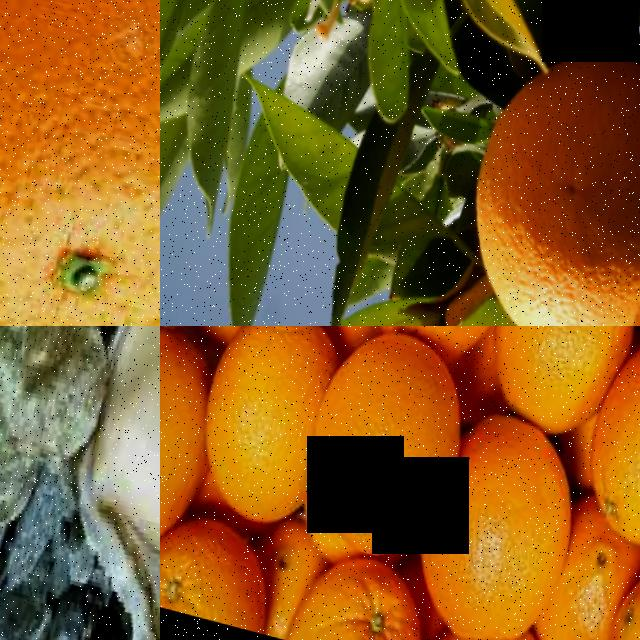orange: (447, 11, 640, 326), (0, 0, 160, 326), (300, 326, 474, 566), (431, 390, 595, 640), (189, 326, 343, 534), (480, 326, 627, 439), (160, 503, 285, 632), (160, 326, 224, 561), (289, 543, 443, 640), (582, 326, 640, 554), (594, 533, 640, 640)
oysters: (42, 326, 160, 640), (0, 326, 154, 562)
